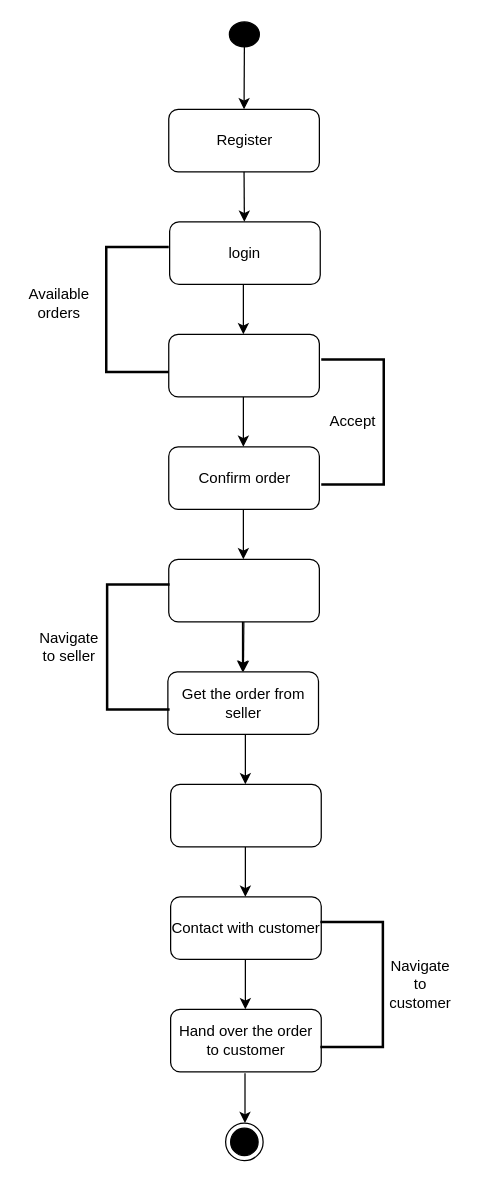
This 479x1183 diagram has some shape labels left out. The centre of each missing label's shape, as x and y in pixels:
"See nearest orders list" belongs at [243,365].
"Track delivery location" belongs at [245,815].
"Track seller location" belongs at [243,590].
